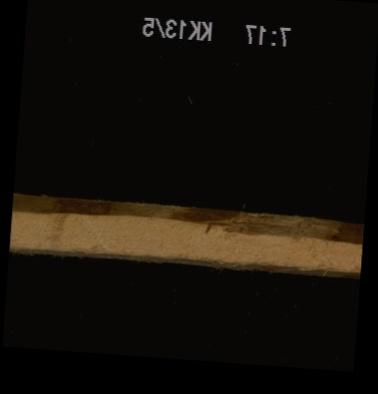wave: (11, 200, 362, 233), (9, 247, 359, 273)
